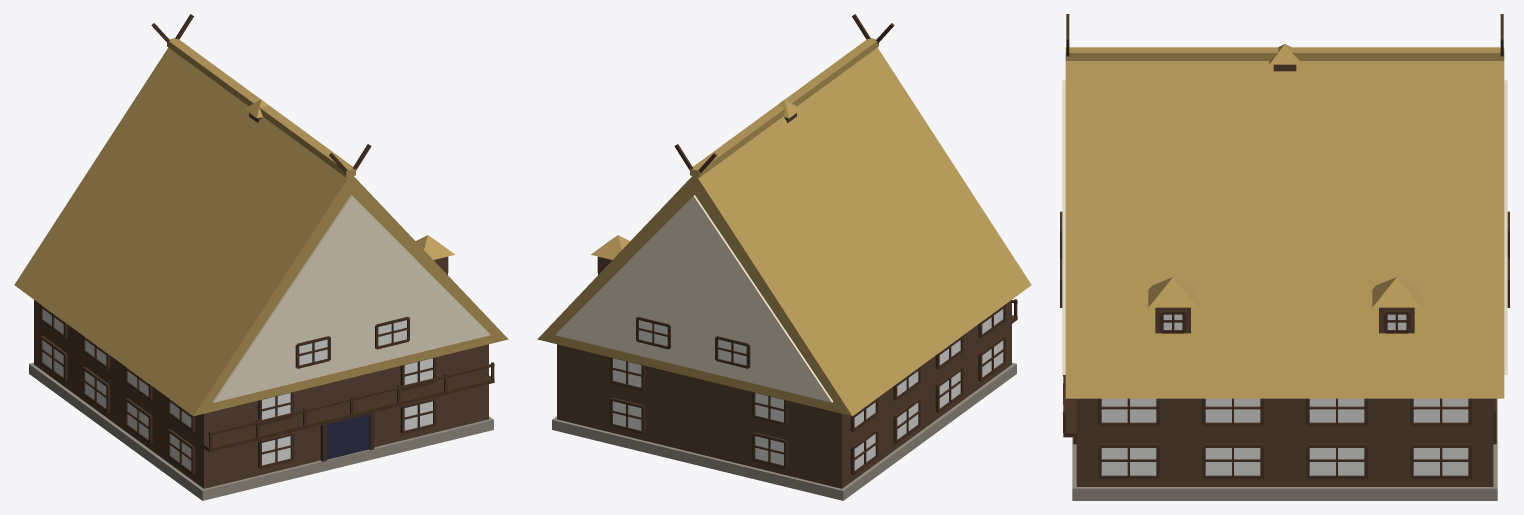
File: house-2x2-2f-gassho-a.glb
3 views of the same model, side by side, from view 1: azimuth 30°, elevation 25°; view 2: azimuth 150°, elevation 25°; view 3: azimuth 270°, elevation 25° (orthographic). The views are drawn at different scales.
Visible parts, largest first — view 1: house-2x2-2f-gassho-a; view 2: house-2x2-2f-gassho-a; view 3: house-2x2-2f-gassho-a.
Boxes of the visible parts, x1,y1,x2,y2 form: house-2x2-2f-gassho-a: [14, 14, 508, 500]; house-2x2-2f-gassho-a: [537, 14, 1031, 500]; house-2x2-2f-gassho-a: [1060, 14, 1509, 500].
Bounding box in the file's own units: 1.99 × 1.92 × 2.01.
Materials: 1 (1 with a texture image).
